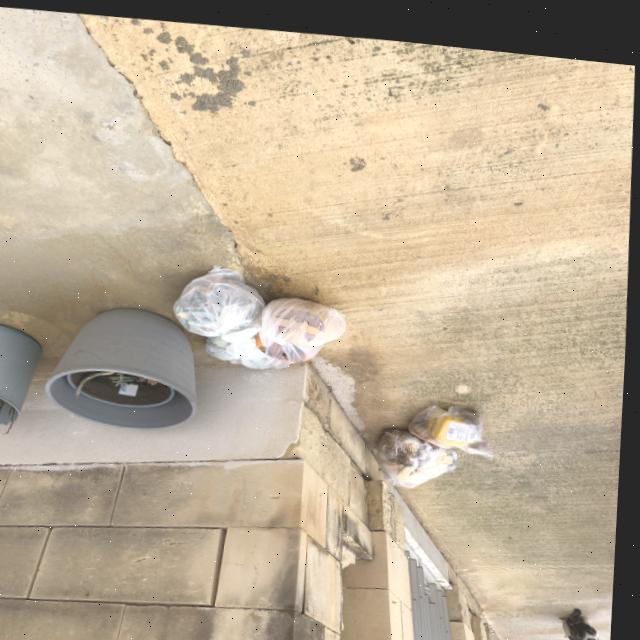Organic Waste -White Bag-: (170, 250, 268, 336), (256, 286, 351, 359), (405, 388, 509, 453), (372, 415, 461, 485), (207, 314, 279, 365)
